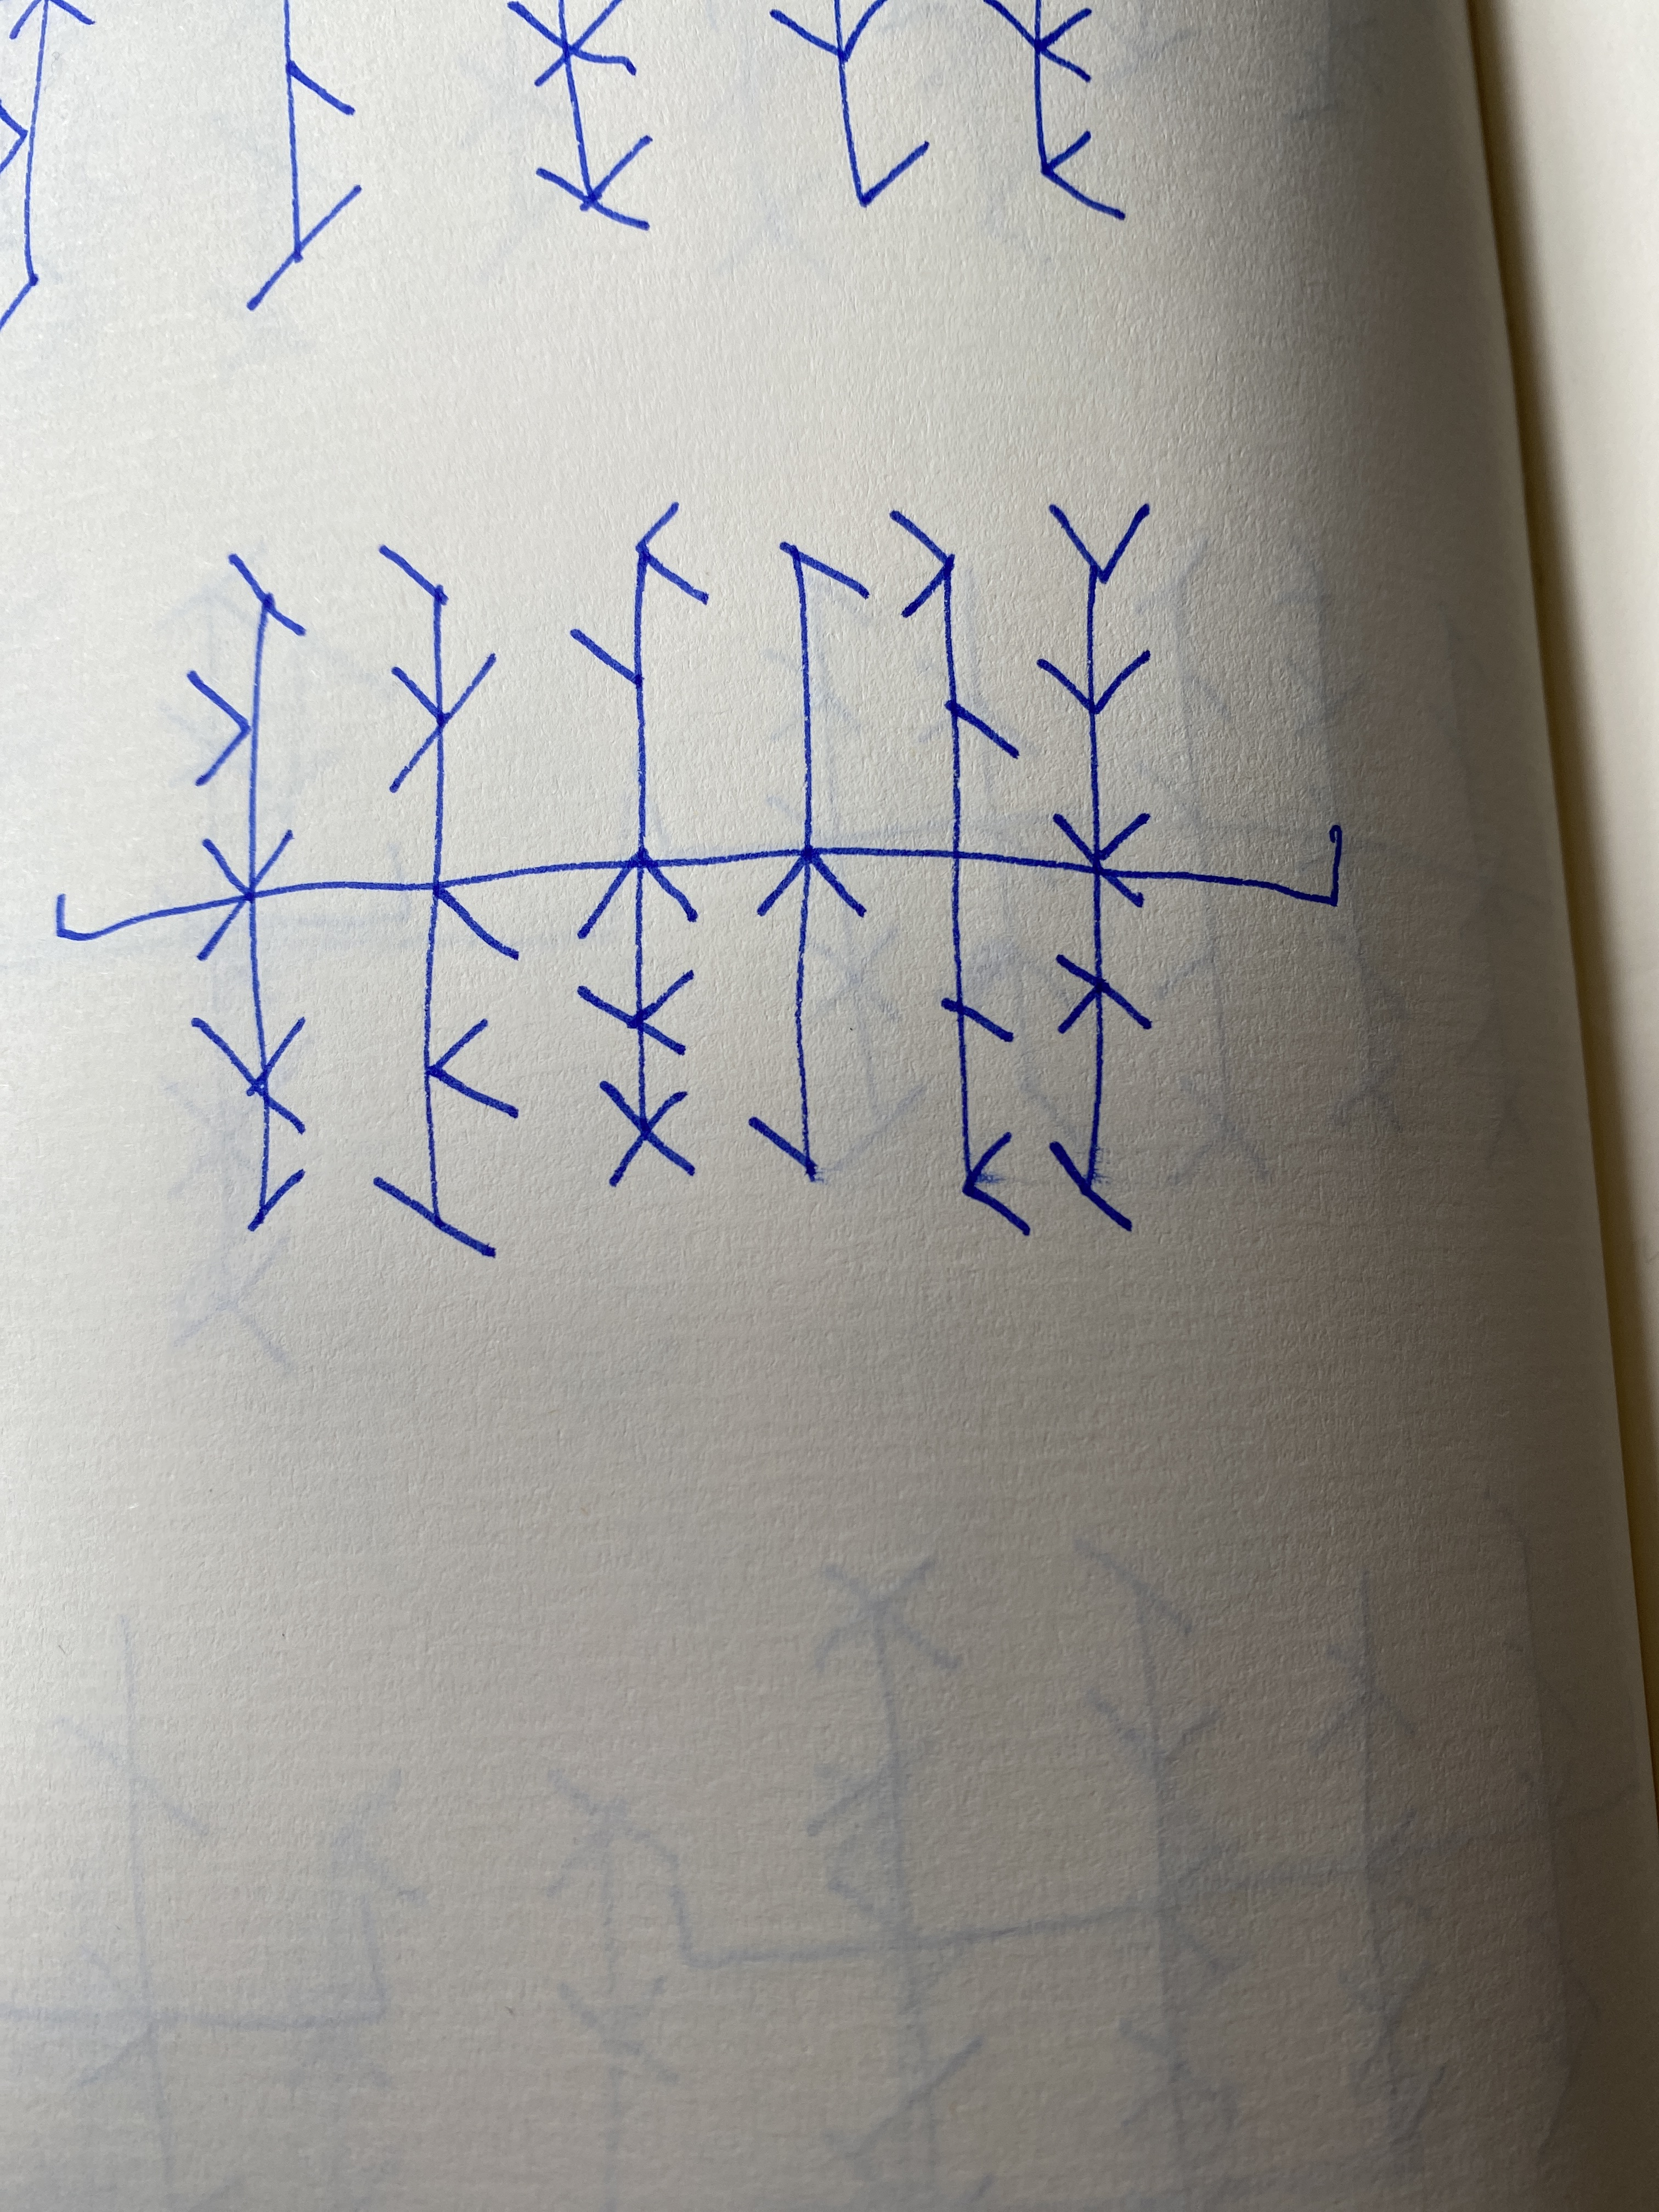Bar: (373, 542, 518, 1258), (890, 510, 1032, 1238), (570, 502, 711, 1190), (185, 550, 308, 1231), (1037, 503, 1152, 1231), (748, 538, 871, 1181)
Barcode: (56, 500, 1347, 1256)
End: (1145, 826, 1349, 909)
Start: (54, 892, 209, 944)
